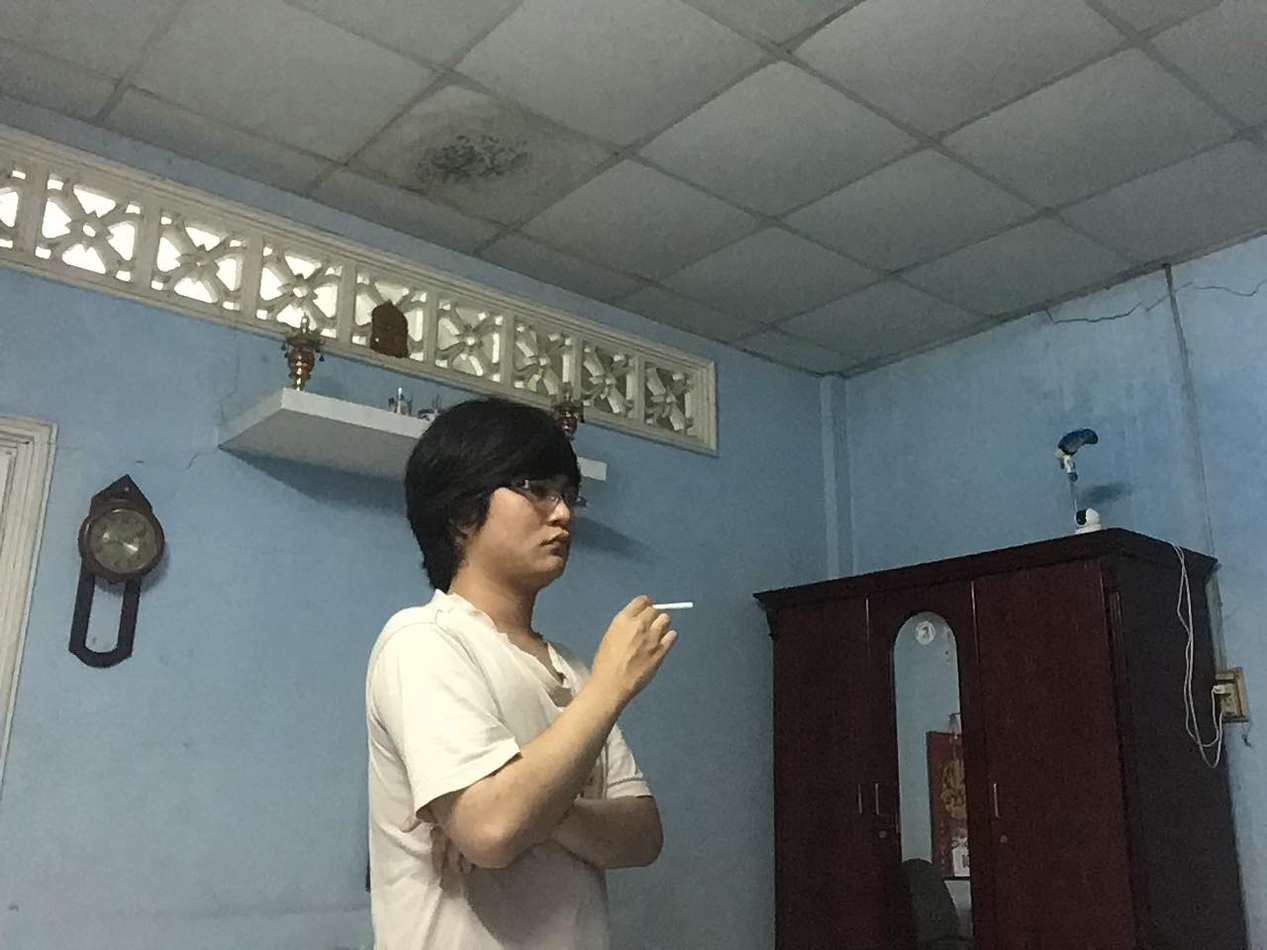cigarette: (652, 598, 697, 615)
person: (365, 401, 688, 949)
